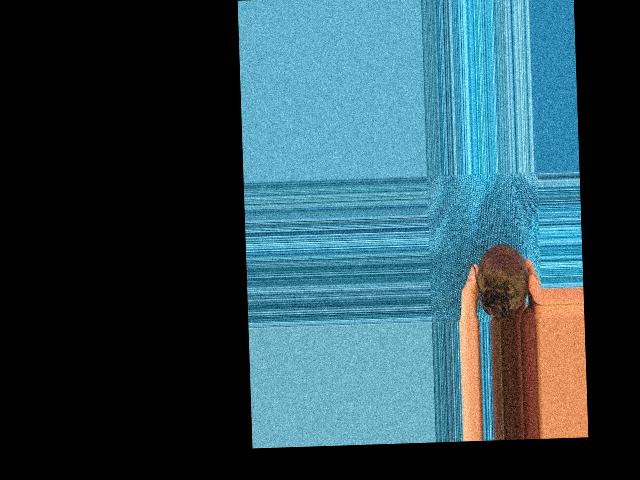beet: (469, 243, 530, 321)
